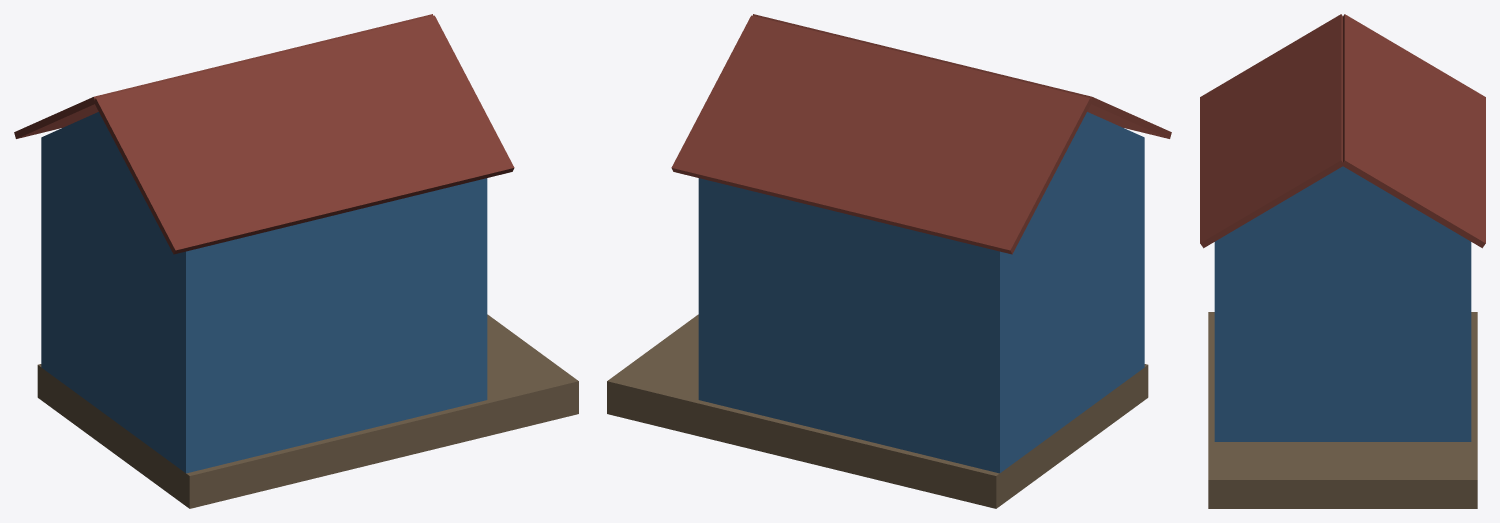
Rendered from SM_Prop_coast_beachhut_0_LOD2.glb.
The picture shows the model from 3 angles, left to right: view 1: azimuth 30°, elevation 25°; view 2: azimuth 150°, elevation 25°; view 3: azimuth 270°, elevation 25°; orthographic projection. The views are drawn at different scales.
Parts seen in each view (by area): view 1: SM_Prop_coast_beachhut_0_LOD2; view 2: SM_Prop_coast_beachhut_0_LOD2; view 3: SM_Prop_coast_beachhut_0_LOD2.
Boxes of the visible parts, x1=… form: SM_Prop_coast_beachhut_0_LOD2: x1=14, y1=14, x2=578, y2=508; SM_Prop_coast_beachhut_0_LOD2: x1=607, y1=14, x2=1171, y2=508; SM_Prop_coast_beachhut_0_LOD2: x1=1200, y1=14, x2=1485, y2=508.
Size of the model in its own units: 3.25 by 2.74 by 2.23.
